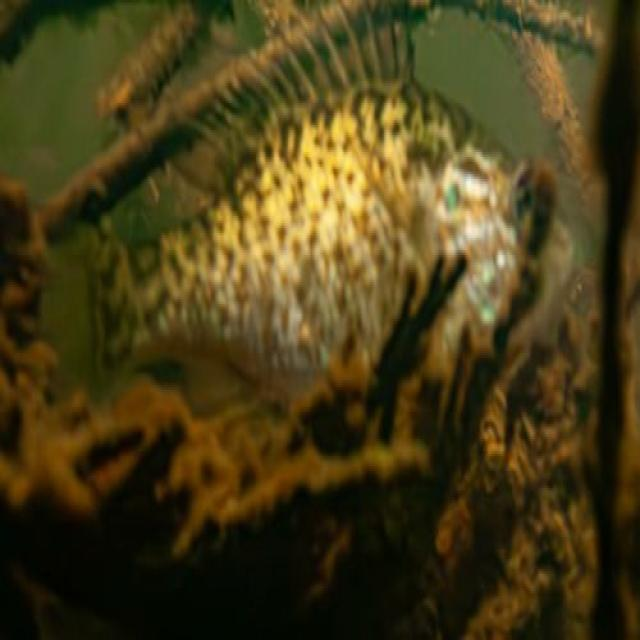Gunes Levregi: (71, 0, 565, 420)
